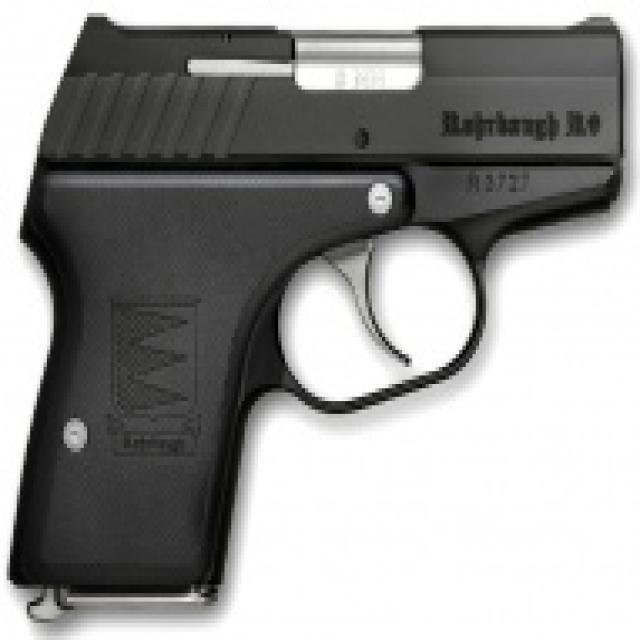pistol: (1, 1, 640, 635)
